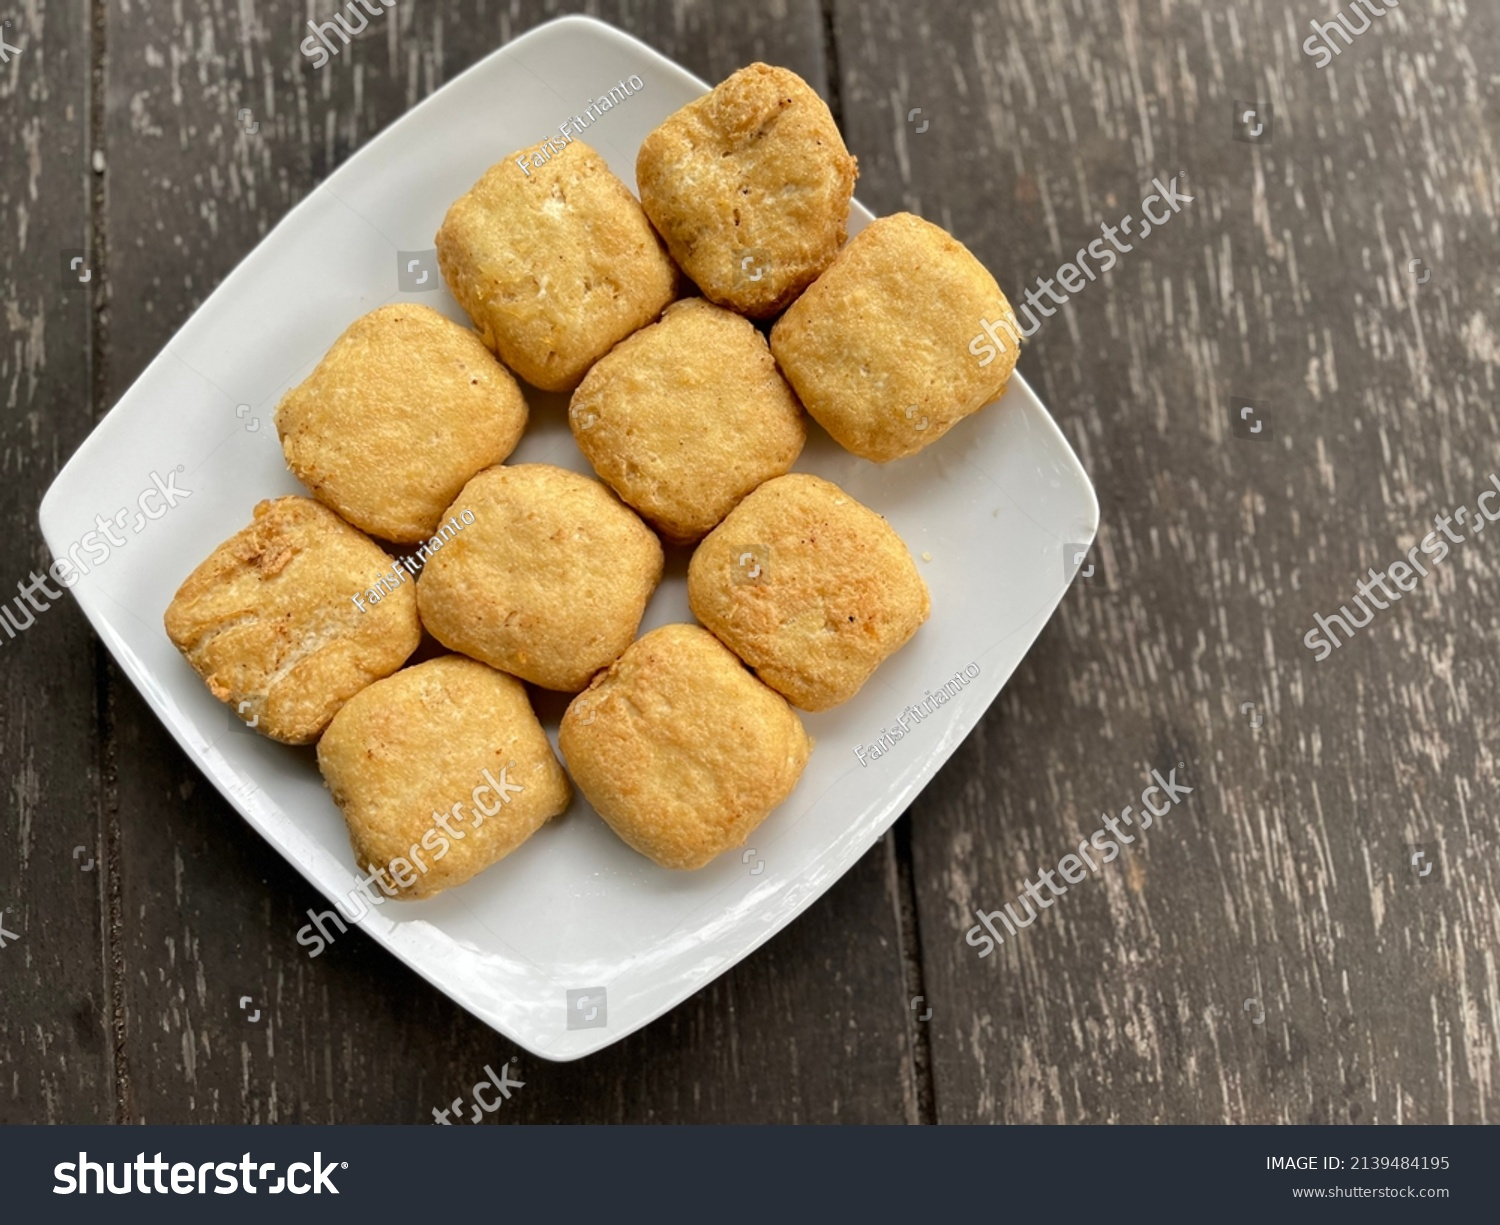Tahu: (336, 647, 563, 880), (192, 472, 385, 723), (574, 613, 805, 813), (288, 298, 496, 501), (414, 493, 642, 669), (456, 155, 615, 390), (634, 80, 821, 280), (828, 218, 1000, 430), (708, 496, 922, 637)
